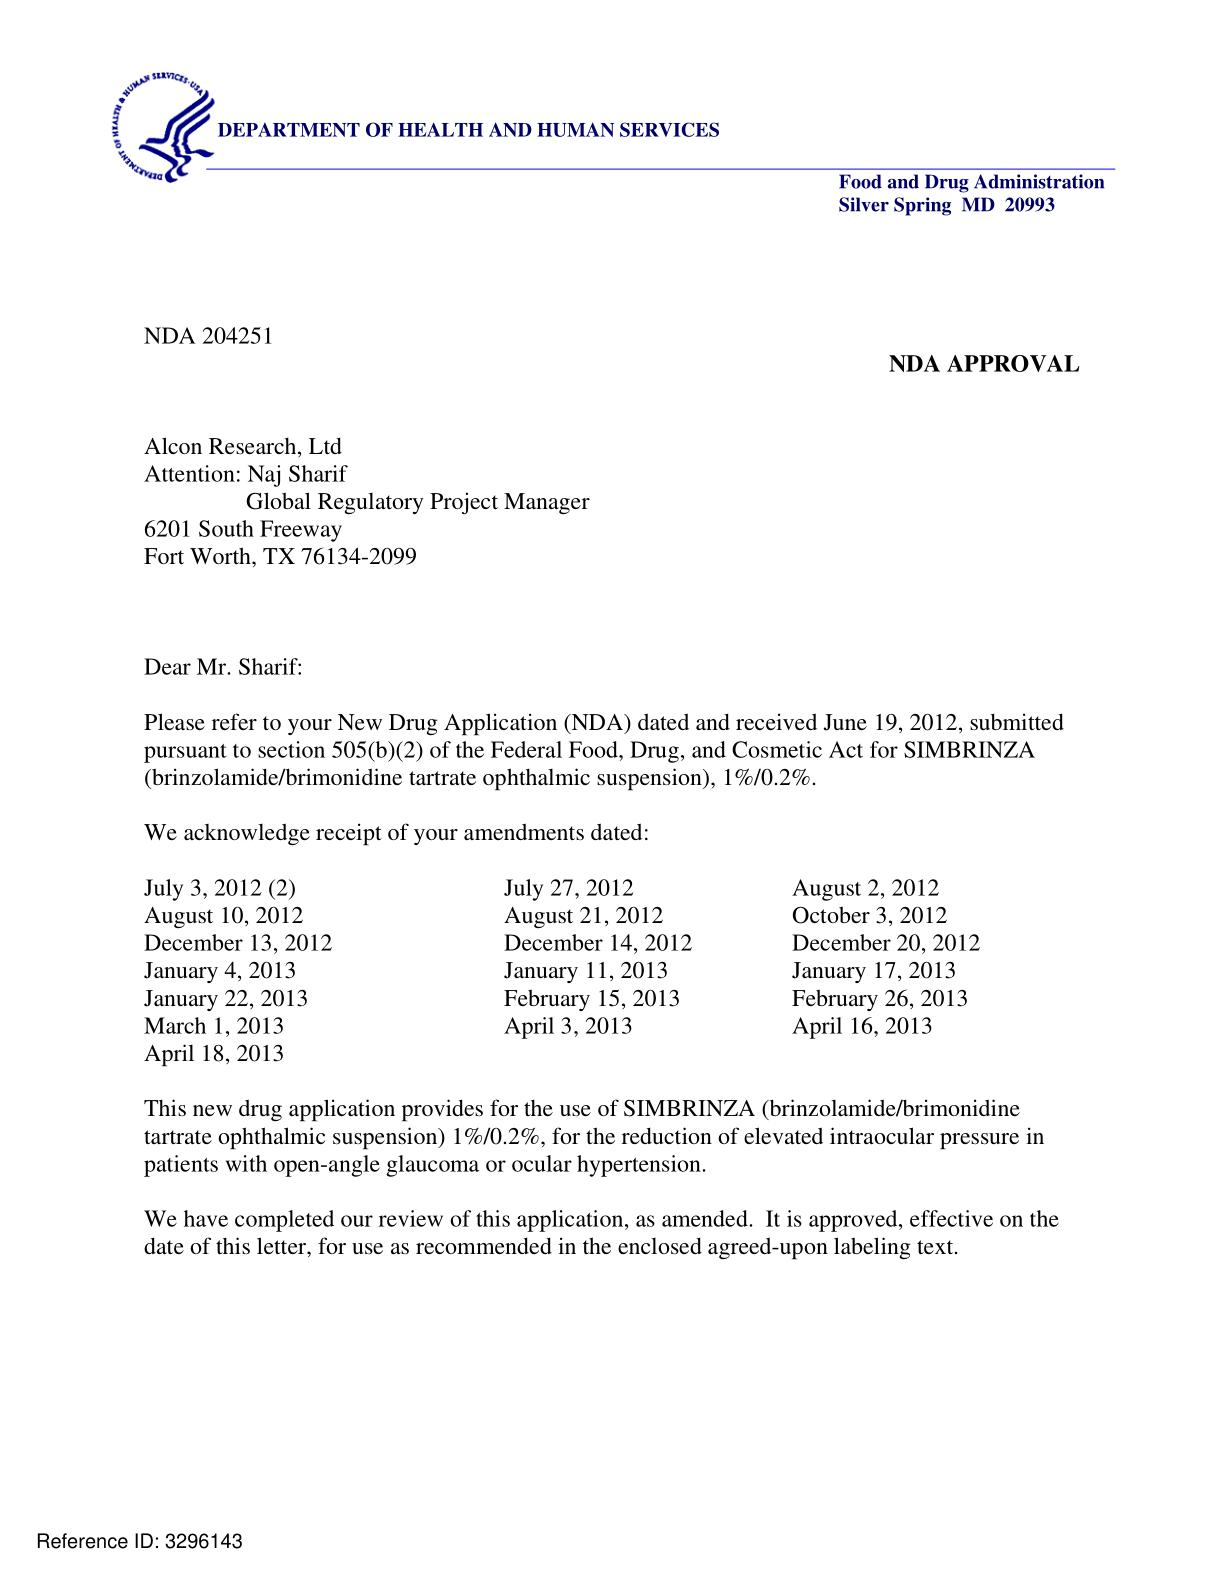nolines: (138, 876, 982, 1068)
